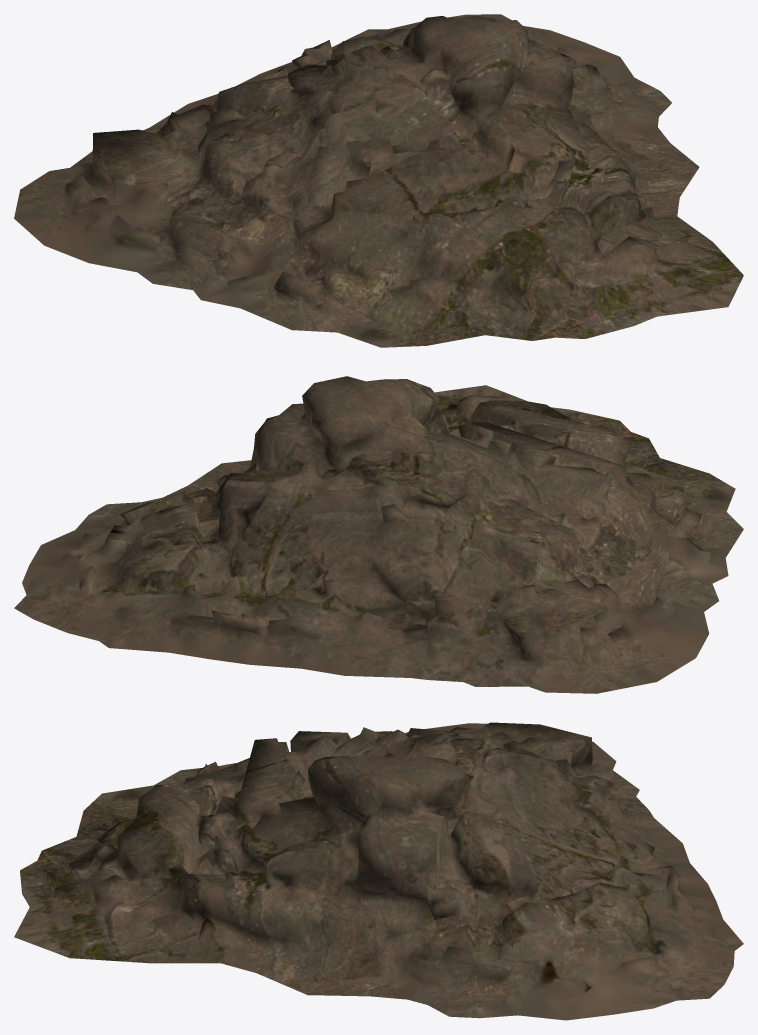
File: Rubbles_03.fbx
The picture shows the model from 3 angles, top to bottom: view 1: azimuth 30°, elevation 25°; view 2: azimuth 150°, elevation 25°; view 3: azimuth 270°, elevation 25°; orthographic projection. The views are drawn at different scales.
Parts seen in each view (by area): view 1: Rubble_Big_LOD1:Rubble_Big_LOD1_0; view 2: Rubble_Big_LOD1:Rubble_Big_LOD1_0; view 3: Rubble_Big_LOD1:Rubble_Big_LOD1_0.
Part boxes in pixels (x1,y1,x2,y2): Rubble_Big_LOD1:Rubble_Big_LOD1_0: (14,14,743,347); Rubble_Big_LOD1:Rubble_Big_LOD1_0: (14,376,743,693); Rubble_Big_LOD1:Rubble_Big_LOD1_0: (14,722,743,1020).
Size of the model in its own units: 44.45 by 10.11 by 46.13.
Materials: 1 (1 with a texture image).
